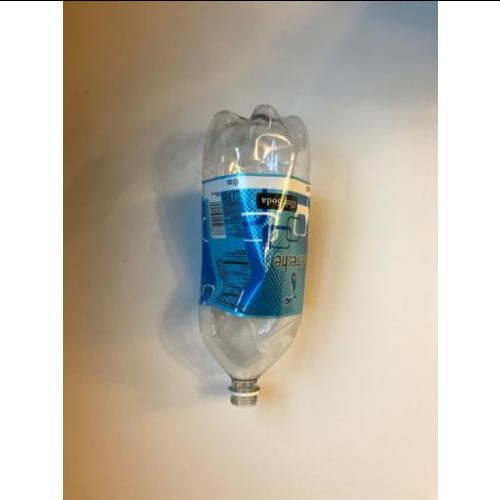plastic: (200, 106, 313, 407)
